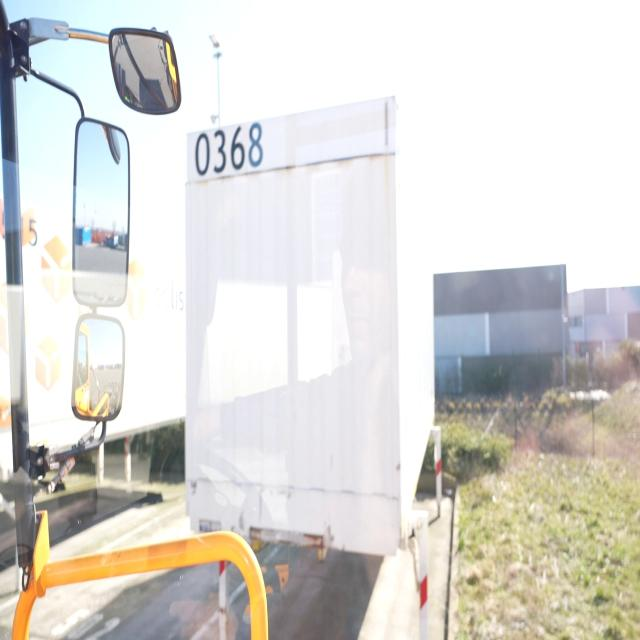Code: (193, 118, 274, 180)
